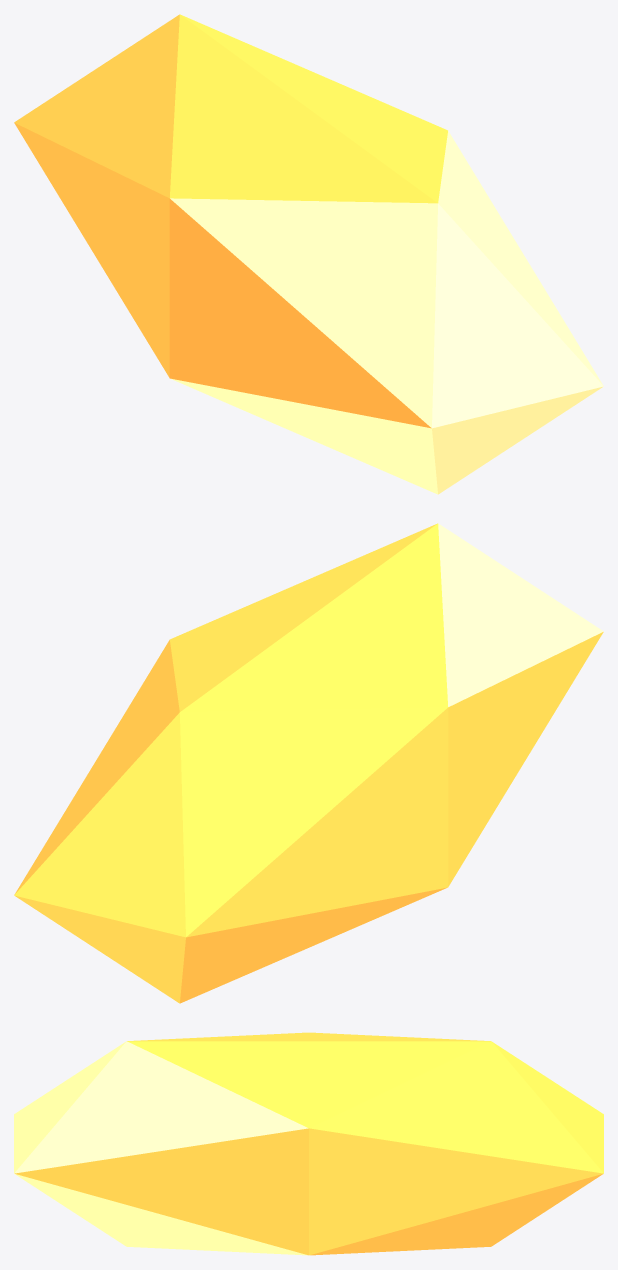
The model's file is spark.glb.
3 renders of one model, top to bottom at view 1: azimuth 30°, elevation 25°; view 2: azimuth 150°, elevation 25°; view 3: azimuth 270°, elevation 25°, orthographic. The views are drawn at different scales.
Visible parts, largest first — view 1: Spark; view 2: Spark; view 3: Spark.
Part boxes in pixels (left/top/right/bottom): Spark: left=14, top=14, right=603, bottom=494; Spark: left=14, top=523, right=603, bottom=1003; Spark: left=14, top=1032, right=603, bottom=1255.
Size of the model in its own units: 0.1191 by 0.1191 by 0.3096.
